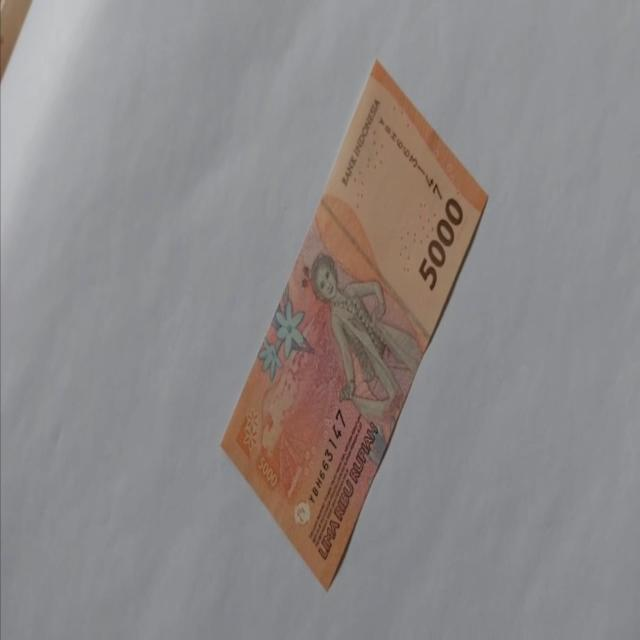lima ribu rupiah: (219, 58, 489, 592)
